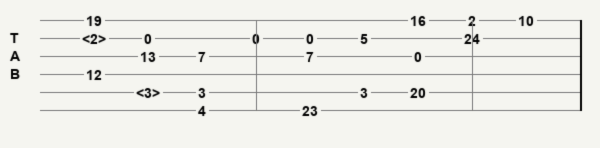0: (144, 31, 156, 45), (252, 31, 264, 45), (306, 31, 318, 45), (414, 49, 426, 63)
10: (518, 13, 538, 27)
12: (86, 67, 106, 81)
13: (140, 49, 160, 63)
16: (410, 13, 430, 27)
19: (86, 13, 106, 27)
2: (468, 13, 480, 27)
20: (410, 85, 430, 99)
23: (302, 103, 322, 117)
24: (464, 31, 484, 45)
3: (198, 85, 210, 99), (360, 85, 372, 99)
4: (198, 103, 210, 117)
5: (360, 31, 372, 45)
7: (198, 49, 210, 63), (306, 49, 318, 63)
harmonic: (82, 31, 110, 45), (136, 85, 164, 99)
